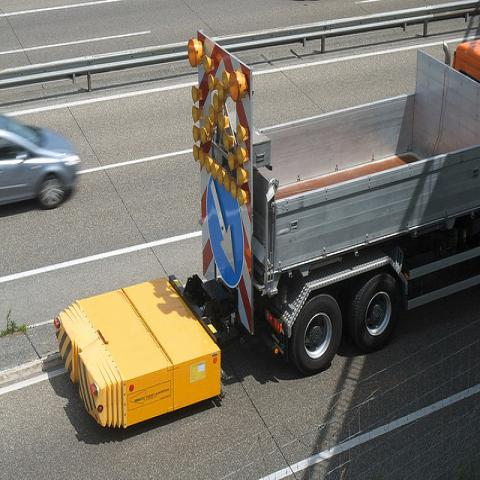car: (0, 115, 81, 210)
truck: (186, 27, 479, 373)
